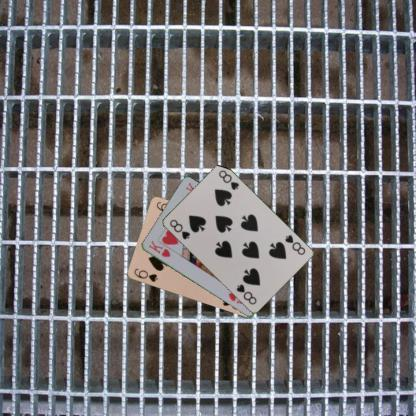6s: (131, 266, 159, 283)
8s: (167, 217, 191, 241), (282, 232, 306, 256)
Kh: (146, 237, 172, 259)
